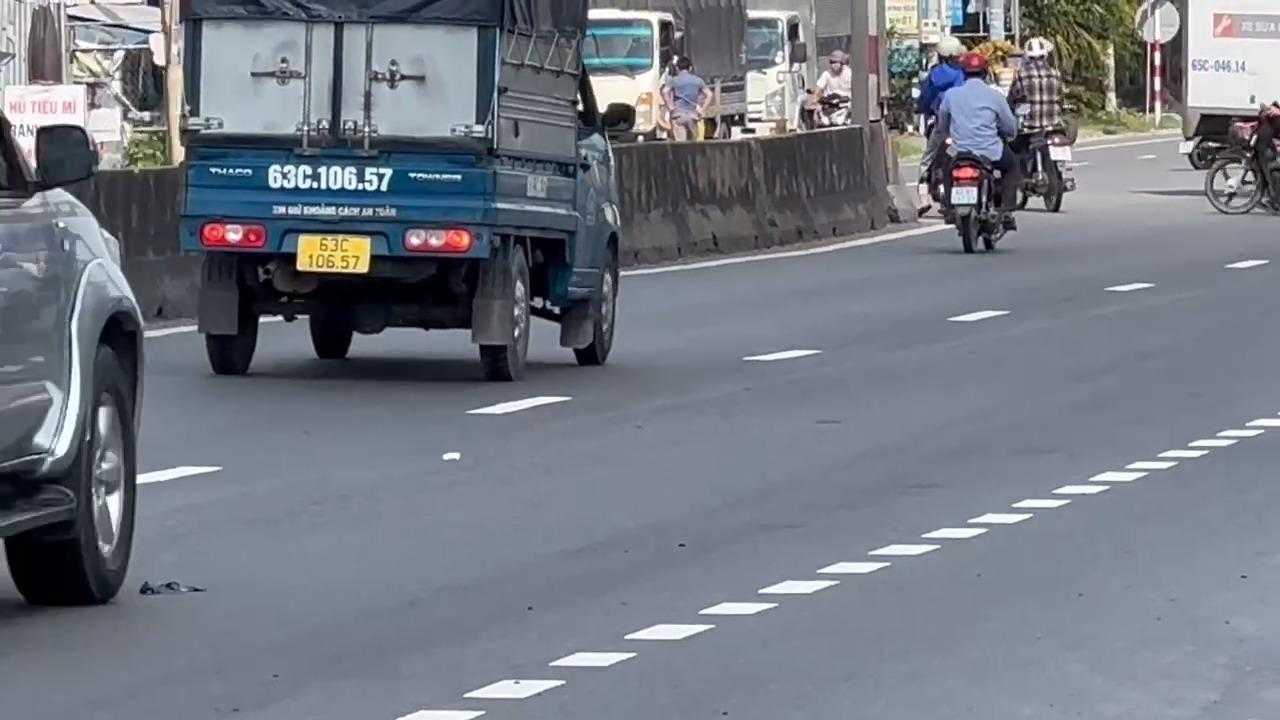bien_so: (294, 232, 371, 274)
